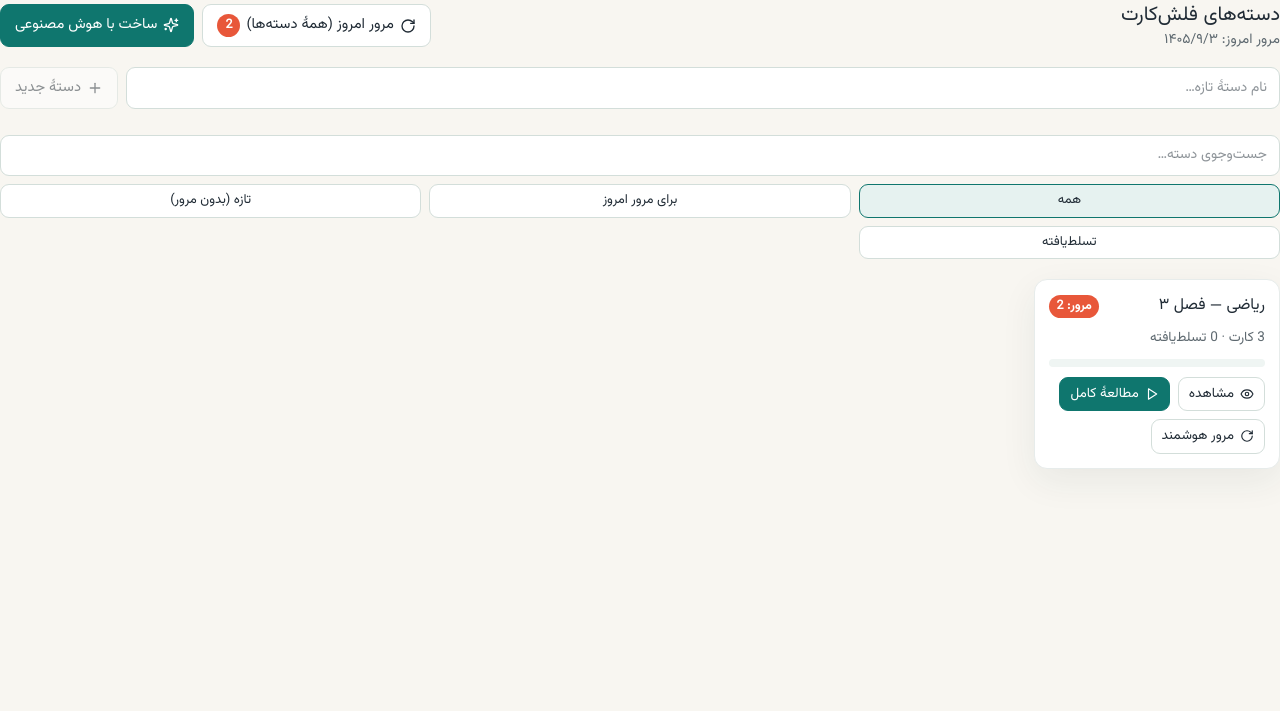
Test: FlashcardsWorkspace — Phase 03 library, card details, generation preview › previews the generation scope before submitting
Click the button "ساخت با هوش مصنوعی": (97, 26) [0,4,194,47]
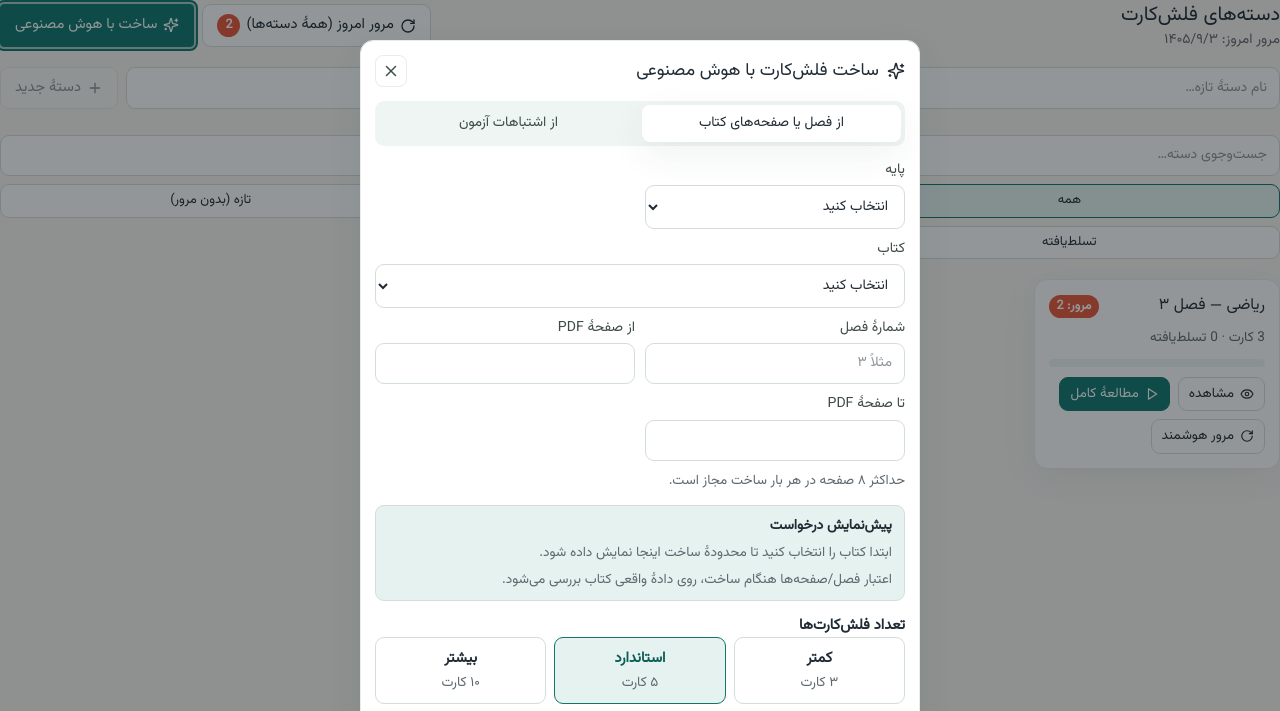
Now the text "ابتدا کتاب را انتخاب کنید تا محدودهٔ ساخت اینجا نمایش داده شود." is shown, box [539,542,892,563]
Select "دهم" in the dropdown labelled "پایه": (775, 207) [645,185,905,229]
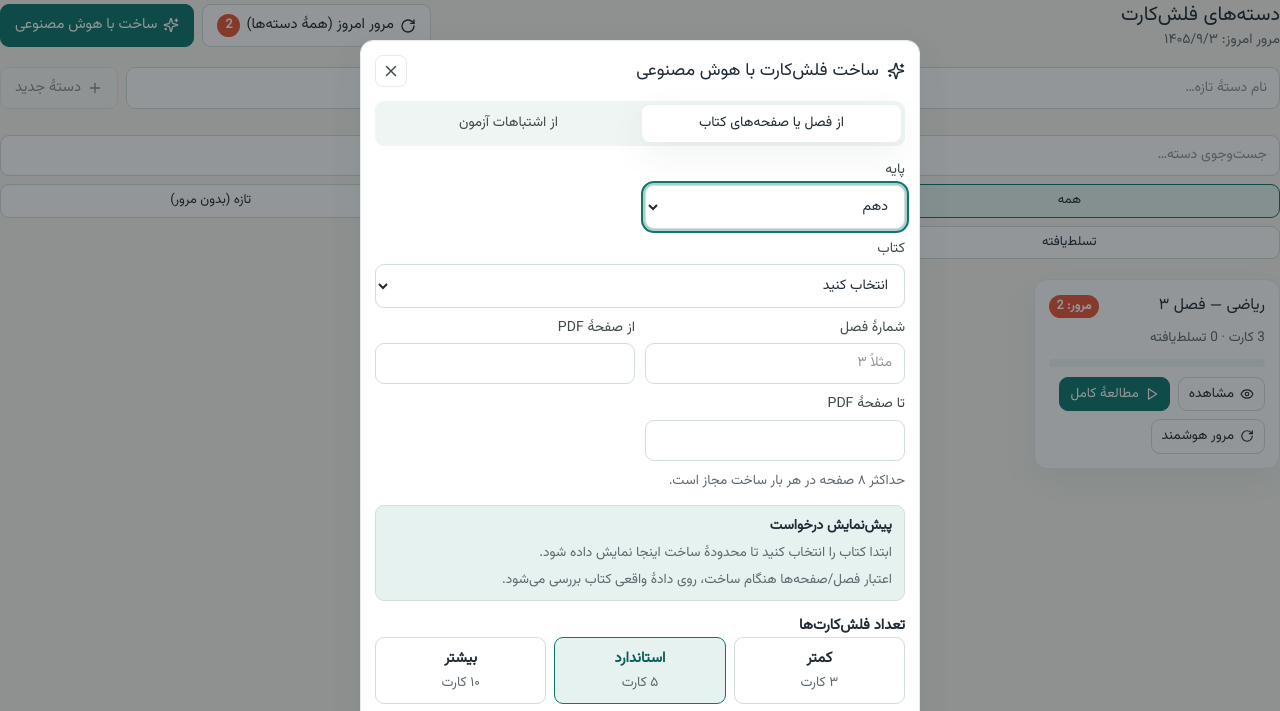
Select "ریاضی دهم" in the dropdown labelled "کتاب": (640, 286) [375,264,905,308]
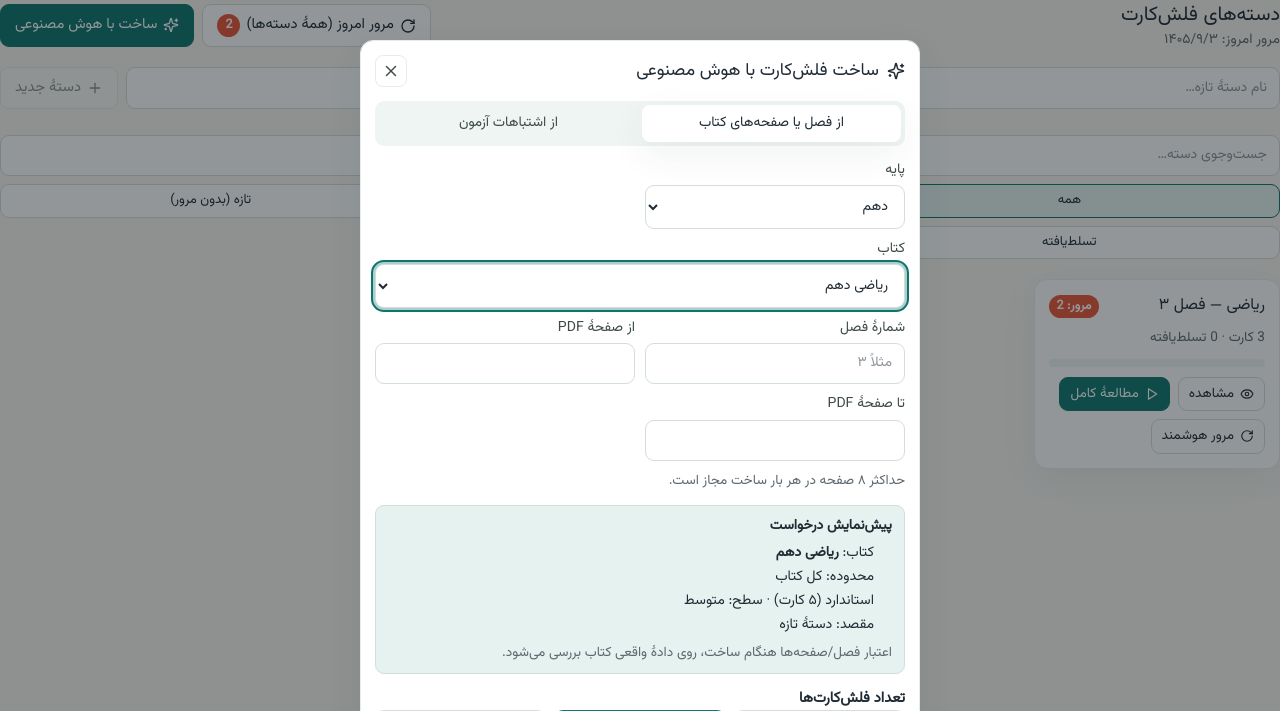
Now the element labelled "پیش‌نمایش درخواست" shows "اعتبار فصل/صفحه‌ها هنگام ساخت", box [502,642,892,663]
Now the element labelled "پیش‌نمایش درخواست" shows "ریاضی دهم", box [776,542,839,564]
